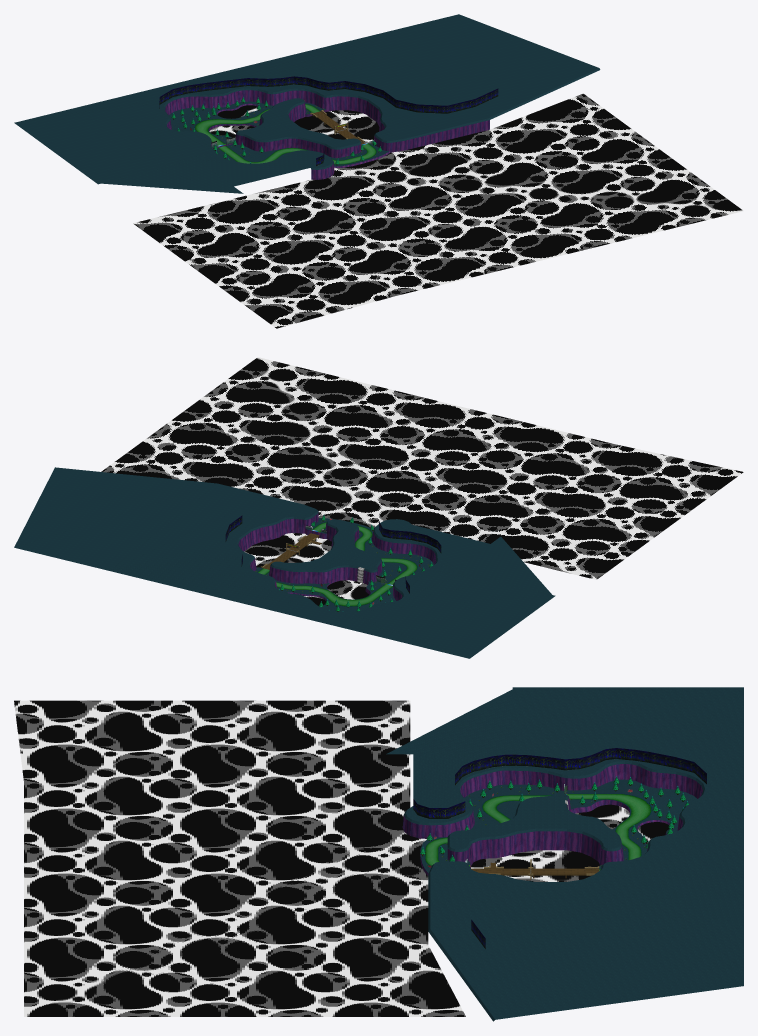
The picture shows the model from 3 angles, top to bottom: view 1: azimuth 30°, elevation 25°; view 2: azimuth 150°, elevation 25°; view 3: azimuth 270°, elevation 25°; orthographic projection. The views are drawn at different scales.
Visible parts, largest first — view 1: snes_ghost_valley-SKP--Material1, snes_ghost_valley-SKP--Material7, snes_ghost_valley-SKP--Material6, snes_ghost_valley-SKP--auto16, snes_ghost_valley-SKP--Material5, snes_ghost_valley-SKP--Material88; view 2: snes_ghost_valley-SKP--Material1, snes_ghost_valley-SKP--Material7, snes_ghost_valley-SKP--Material6, snes_ghost_valley-SKP--Material5, snes_ghost_valley-SKP--auto16, snes_ghost_valley-SKP--Material88; view 3: snes_ghost_valley-SKP--Material1, snes_ghost_valley-SKP--Material7, snes_ghost_valley-SKP--Material6, snes_ghost_valley-SKP--auto16, snes_ghost_valley-SKP--Material5, snes_ghost_valley-SKP--Material88, snes_ghost_valley-SKP--Material2.
Part boxes in pixels (<box>): snes_ghost_valley-SKP--Material1: <box>133,93,743,328</box>; snes_ghost_valley-SKP--Material7: <box>14,14,600,193</box>; snes_ghost_valley-SKP--Material6: <box>165,90,489,179</box>; snes_ghost_valley-SKP--auto16: <box>159,76,498,166</box>; snes_ghost_valley-SKP--Material5: <box>194,103,376,164</box>; snes_ghost_valley-SKP--Material88: <box>171,97,381,164</box>; snes_ghost_valley-SKP--Material1: <box>101,357,743,605</box>; snes_ghost_valley-SKP--Material7: <box>14,467,555,658</box>; snes_ghost_valley-SKP--Material6: <box>238,512,436,601</box>; snes_ghost_valley-SKP--Material5: <box>257,522,417,606</box>; snes_ghost_valley-SKP--auto16: <box>225,515,441,593</box>; snes_ghost_valley-SKP--Material88: <box>279,515,432,611</box>; snes_ghost_valley-SKP--Material1: <box>14,700,669,1016</box>; snes_ghost_valley-SKP--Material7: <box>386,687,743,1021</box>; snes_ghost_valley-SKP--Material6: <box>402,764,702,875</box>; snes_ghost_valley-SKP--auto16: <box>413,748,706,948</box>; snes_ghost_valley-SKP--Material5: <box>424,793,652,870</box>; snes_ghost_valley-SKP--Material88: <box>420,776,688,862</box>; snes_ghost_valley-SKP--Material2: <box>471,862,599,878</box>.
Bounding box in the file's own units: 204525 × 8885 × 188736.
Materials: 20 (19 with a texture image).
